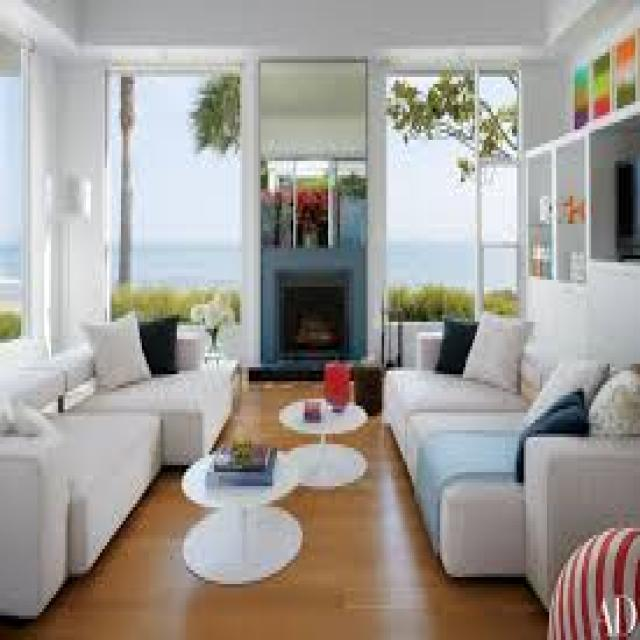Sofa: (395, 301, 640, 587), (0, 319, 236, 609)
Table: (184, 454, 301, 597), (280, 380, 374, 492)
